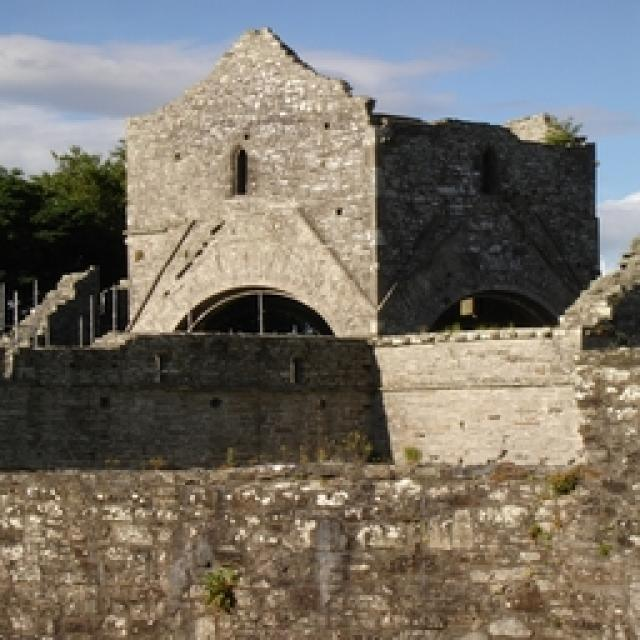Abbey: (83, 32, 605, 427)
